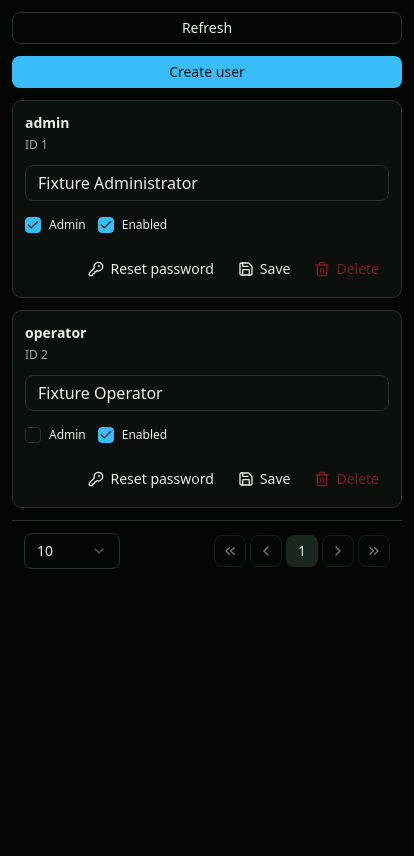
Test case: users route › saves the exact full-row update and patches the cached page without refetching
Replace the text in the field named "Display name" below "operator" with "Operator Updated": point(207, 393) top-left (25, 375), bottom-right (389, 411)
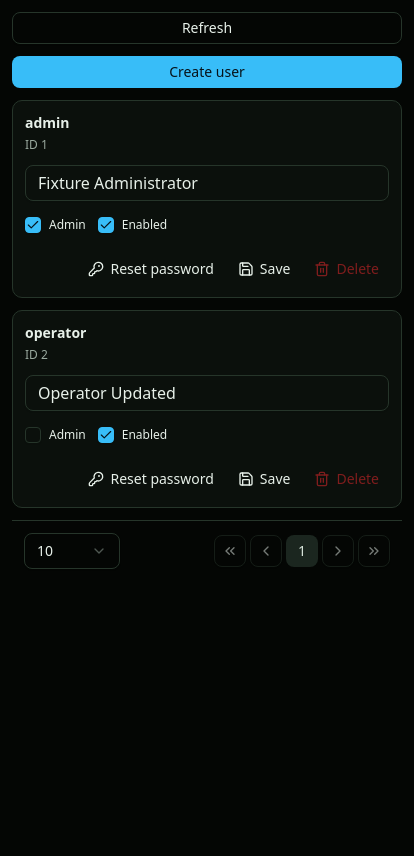
Click the checkbox named "Toggle admin for operator": point(33, 435) top-left (25, 427), bottom-right (41, 443)
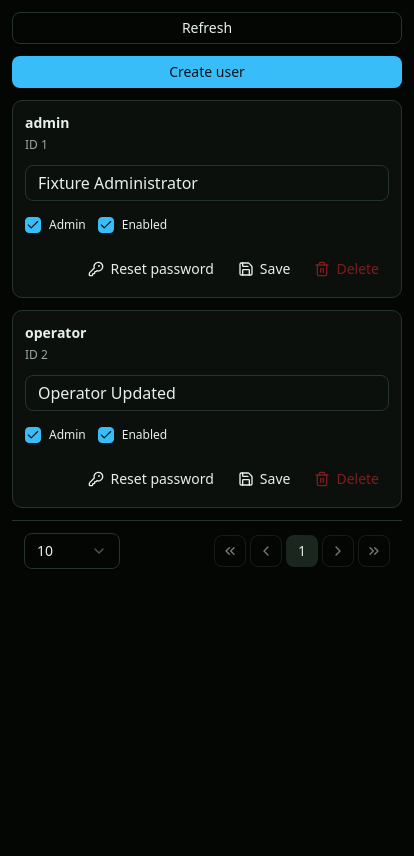
Click the checkbox named "Toggle active for operator": point(106, 435) top-left (98, 427), bottom-right (114, 443)
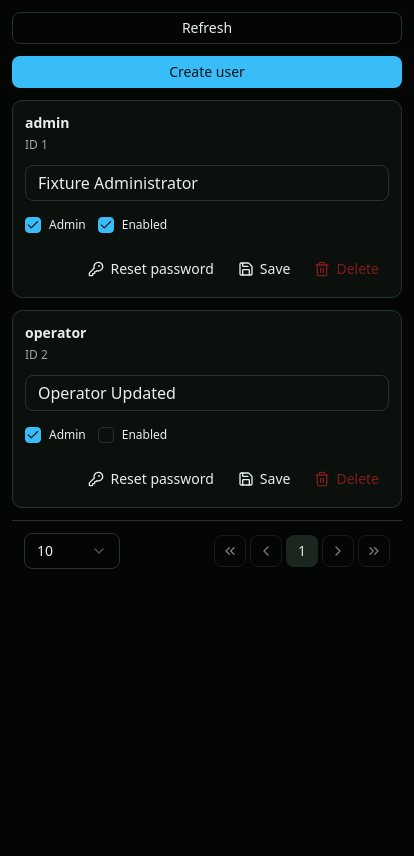
Click the button "Save" below "operator": point(264, 479) top-left (228, 463), bottom-right (300, 495)
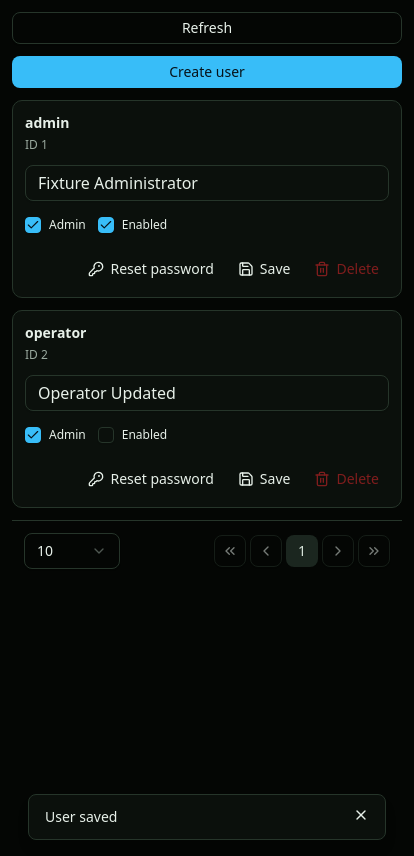
Check: the message "User saved" is shown, box top-left (28, 794), bottom-right (386, 840)
